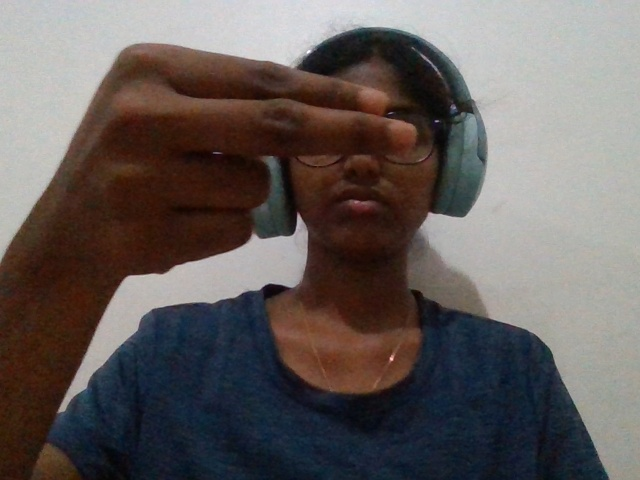H: (27, 20, 456, 338)
